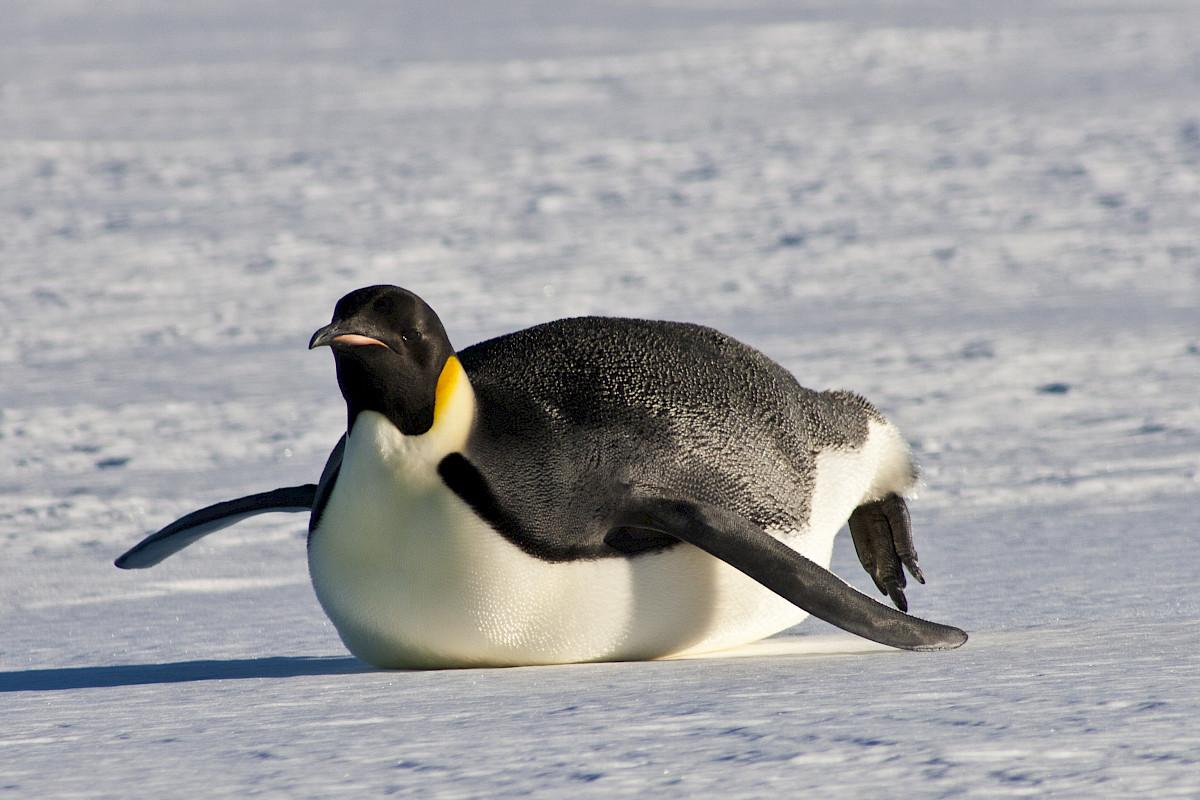emporer: (264, 248, 952, 682)
